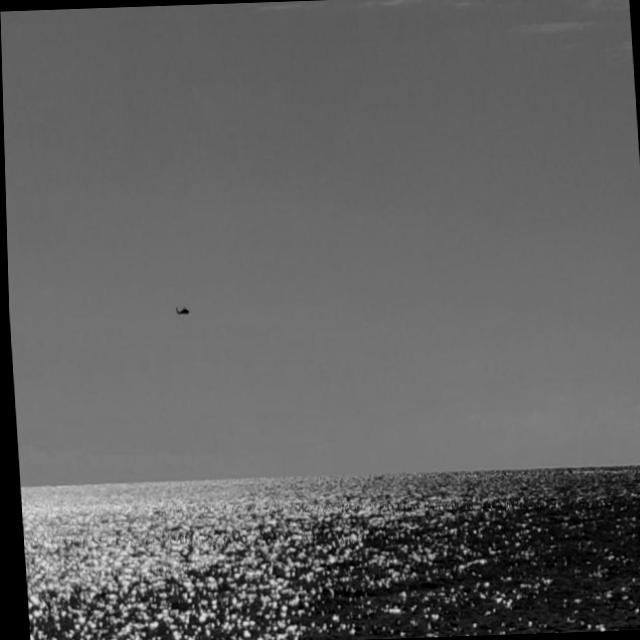helikopter: (133, 270, 210, 354)
